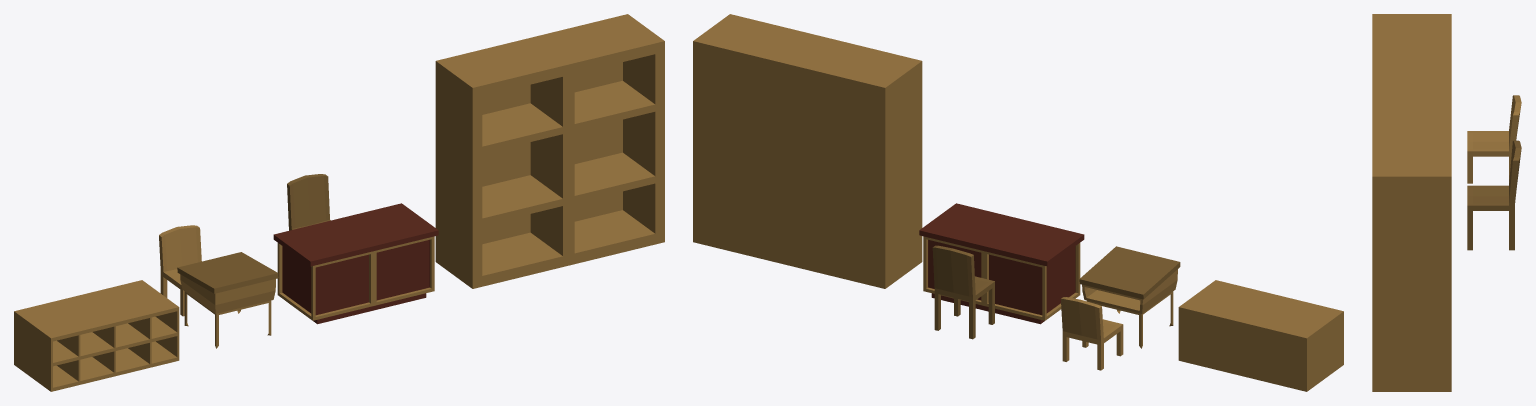
The model's file is Classroom.fbx.
The picture shows the model from 3 angles, left to right: view 1: azimuth 30°, elevation 25°; view 2: azimuth 150°, elevation 25°; view 3: azimuth 270°, elevation 25°; orthographic projection. The views are drawn at different scales.
Parts seen in each view (by area): view 1: Book Shelf, Teacher's Desk, Shoe Cubby, Student's Desk, Teacher's Chair; view 2: Book Shelf, Shoe Cubby, Teacher's Desk, Student's Desk, Teacher's Chair; view 3: Book Shelf, Shoe Cubby, Teacher's Chair, Student's Desk.
Part boxes in pixels (x1,y1,x2,y2): Book Shelf: [435, 14, 664, 288]; Teacher's Desk: [273, 203, 438, 324]; Shoe Cubby: [14, 280, 179, 391]; Student's Desk: [159, 225, 278, 348]; Teacher's Chair: [287, 174, 330, 230]; Book Shelf: [693, 14, 922, 288]; Shoe Cubby: [1178, 280, 1343, 391]; Teacher's Desk: [919, 203, 1084, 324]; Student's Desk: [1061, 246, 1180, 370]; Teacher's Chair: [932, 245, 994, 339]; Book Shelf: [1372, 76, 1451, 391]; Shoe Cubby: [1372, 14, 1451, 76]; Teacher's Chair: [1467, 140, 1521, 250]; Student's Desk: [1467, 95, 1521, 183].
Bounding box in the file's own units: 1916 × 600 × 377.
